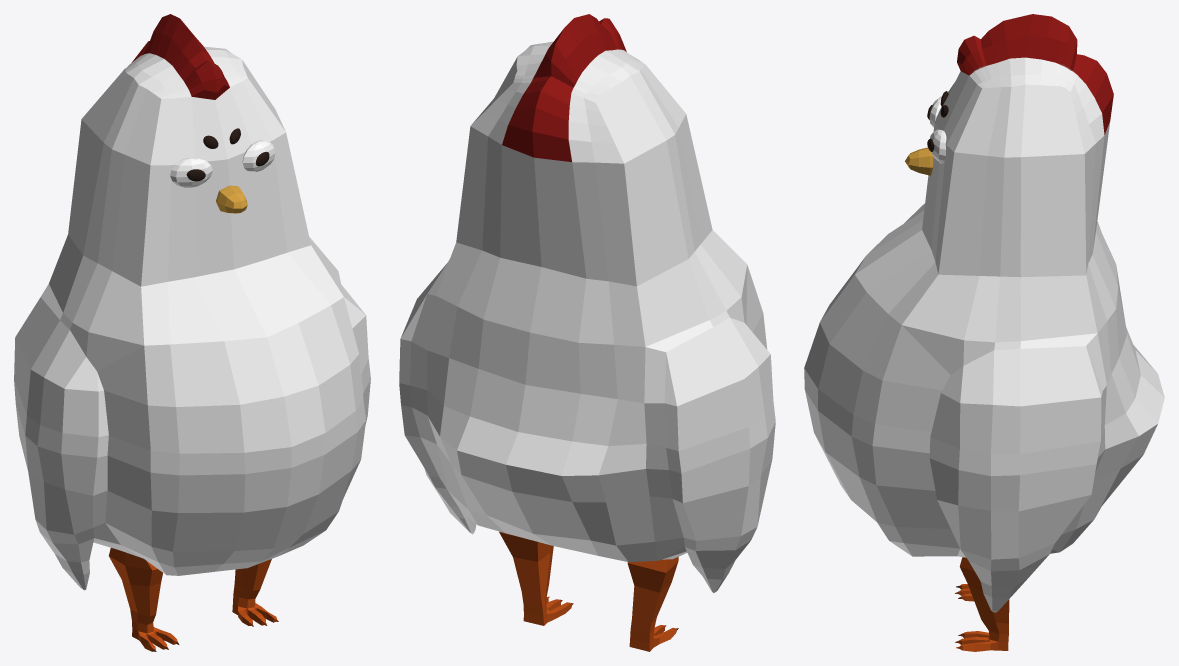
The model's file is chicken.fbx.
The picture shows the model from 3 angles, left to right: view 1: azimuth 30°, elevation 25°; view 2: azimuth 150°, elevation 25°; view 3: azimuth 270°, elevation 25°; orthographic projection. The views are drawn at different scales.
Parts seen in each view (by area): view 1: Sphere; view 2: Sphere; view 3: Sphere.
Boxes of the visible parts, box(x1,y1,x2,y2) form: Sphere: box(14, 14, 370, 651); Sphere: box(399, 14, 775, 651); Sphere: box(804, 14, 1164, 651).
Size of the model in its own units: 1.4 by 2.45 by 1.32.
Materials: 3 (3 with a texture image).
